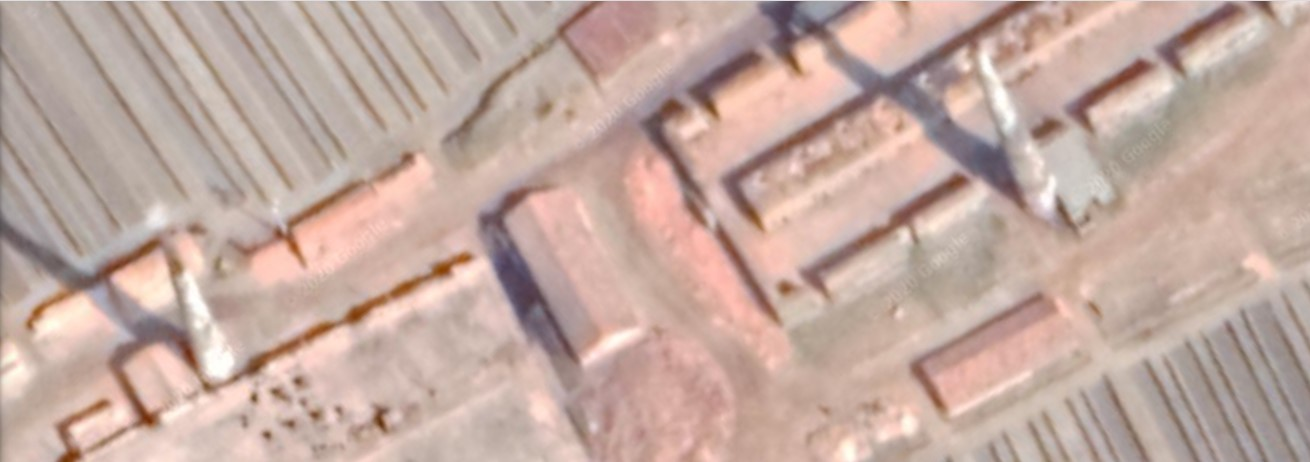kiln: (653, 2, 1260, 278), (10, 227, 535, 462)
